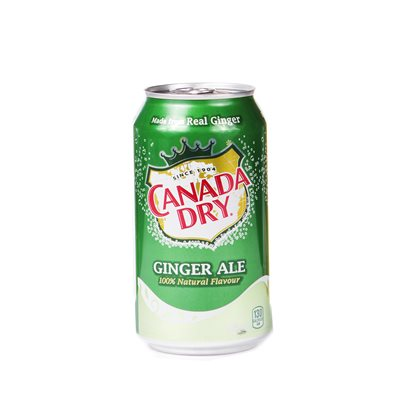Lata: (129, 78, 274, 357)
